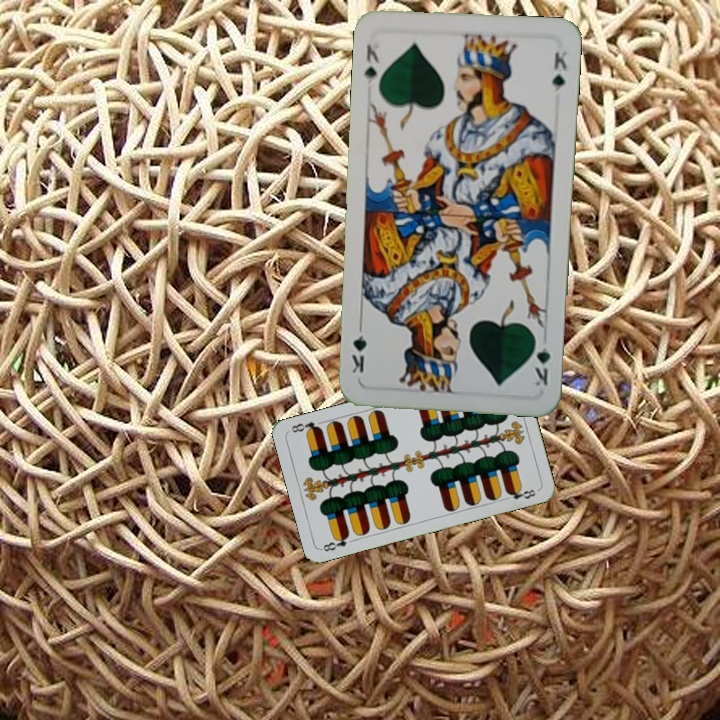E8: (319, 530, 352, 554)
GK: (531, 331, 553, 389), (360, 40, 383, 86)
